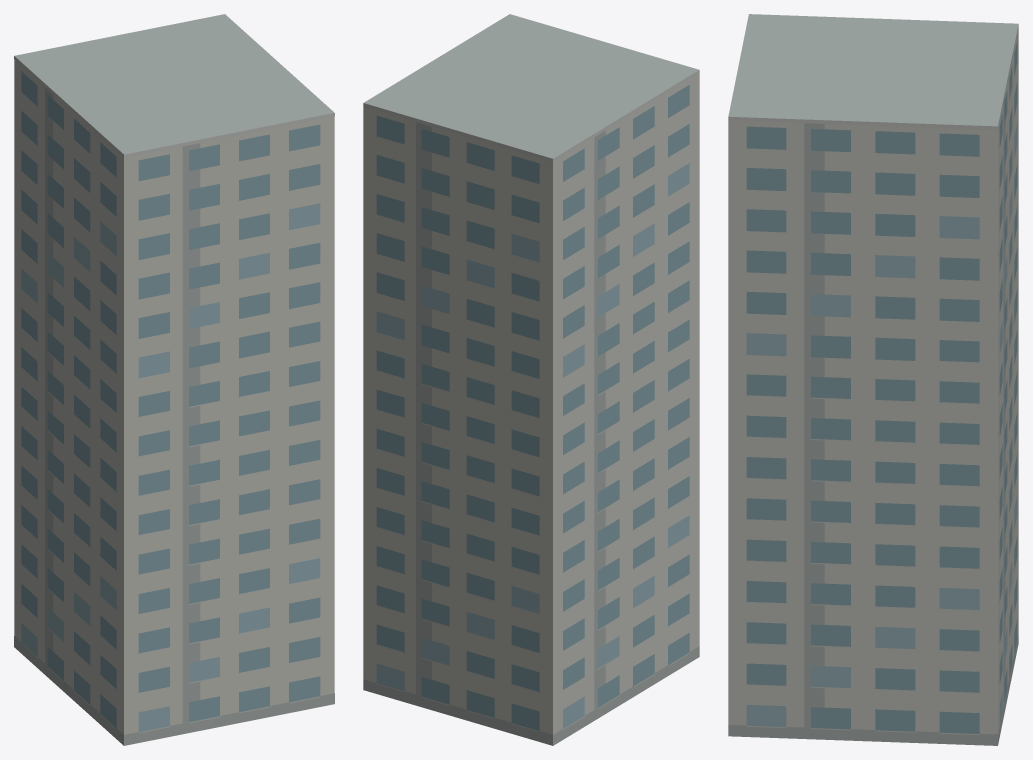
File: residential-ed506763-75b8-45fb-a1f8-d25ee1c3f739.glb
3 renders of one model, left to right at view 1: azimuth 30°, elevation 25°; view 2: azimuth 150°, elevation 25°; view 3: azimuth 270°, elevation 25°, orthographic. The views are drawn at different scales.
Visible parts, largest first — view 1: residential-ed506763-75b8-45fb-a1f8-d25ee1c3f739.tmp; view 2: residential-ed506763-75b8-45fb-a1f8-d25ee1c3f739.tmp; view 3: residential-ed506763-75b8-45fb-a1f8-d25ee1c3f739.tmp.
Boxes of the visible parts, bbox=[...] form: residential-ed506763-75b8-45fb-a1f8-d25ee1c3f739.tmp: bbox=[14, 14, 334, 745]; residential-ed506763-75b8-45fb-a1f8-d25ee1c3f739.tmp: bbox=[363, 14, 699, 745]; residential-ed506763-75b8-45fb-a1f8-d25ee1c3f739.tmp: bbox=[728, 14, 1018, 745].
Bounding box in the file's own units: 15.57 × 40 × 17.
